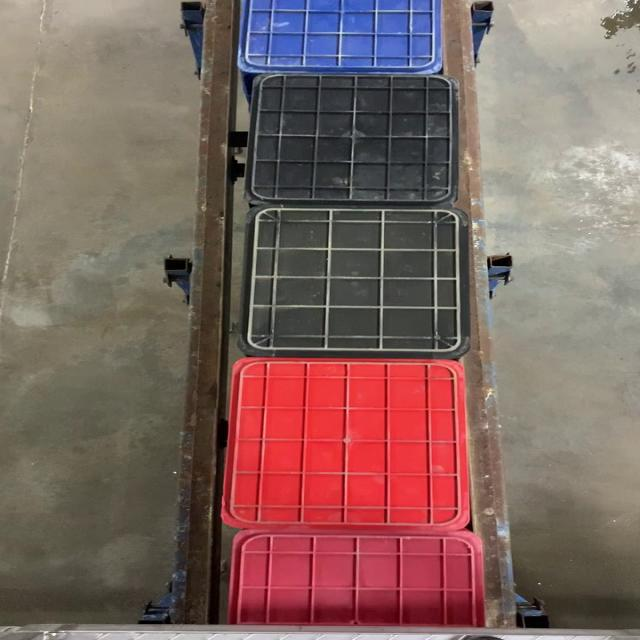Box: (218, 360, 471, 530), (239, 208, 472, 360), (248, 74, 459, 209)
